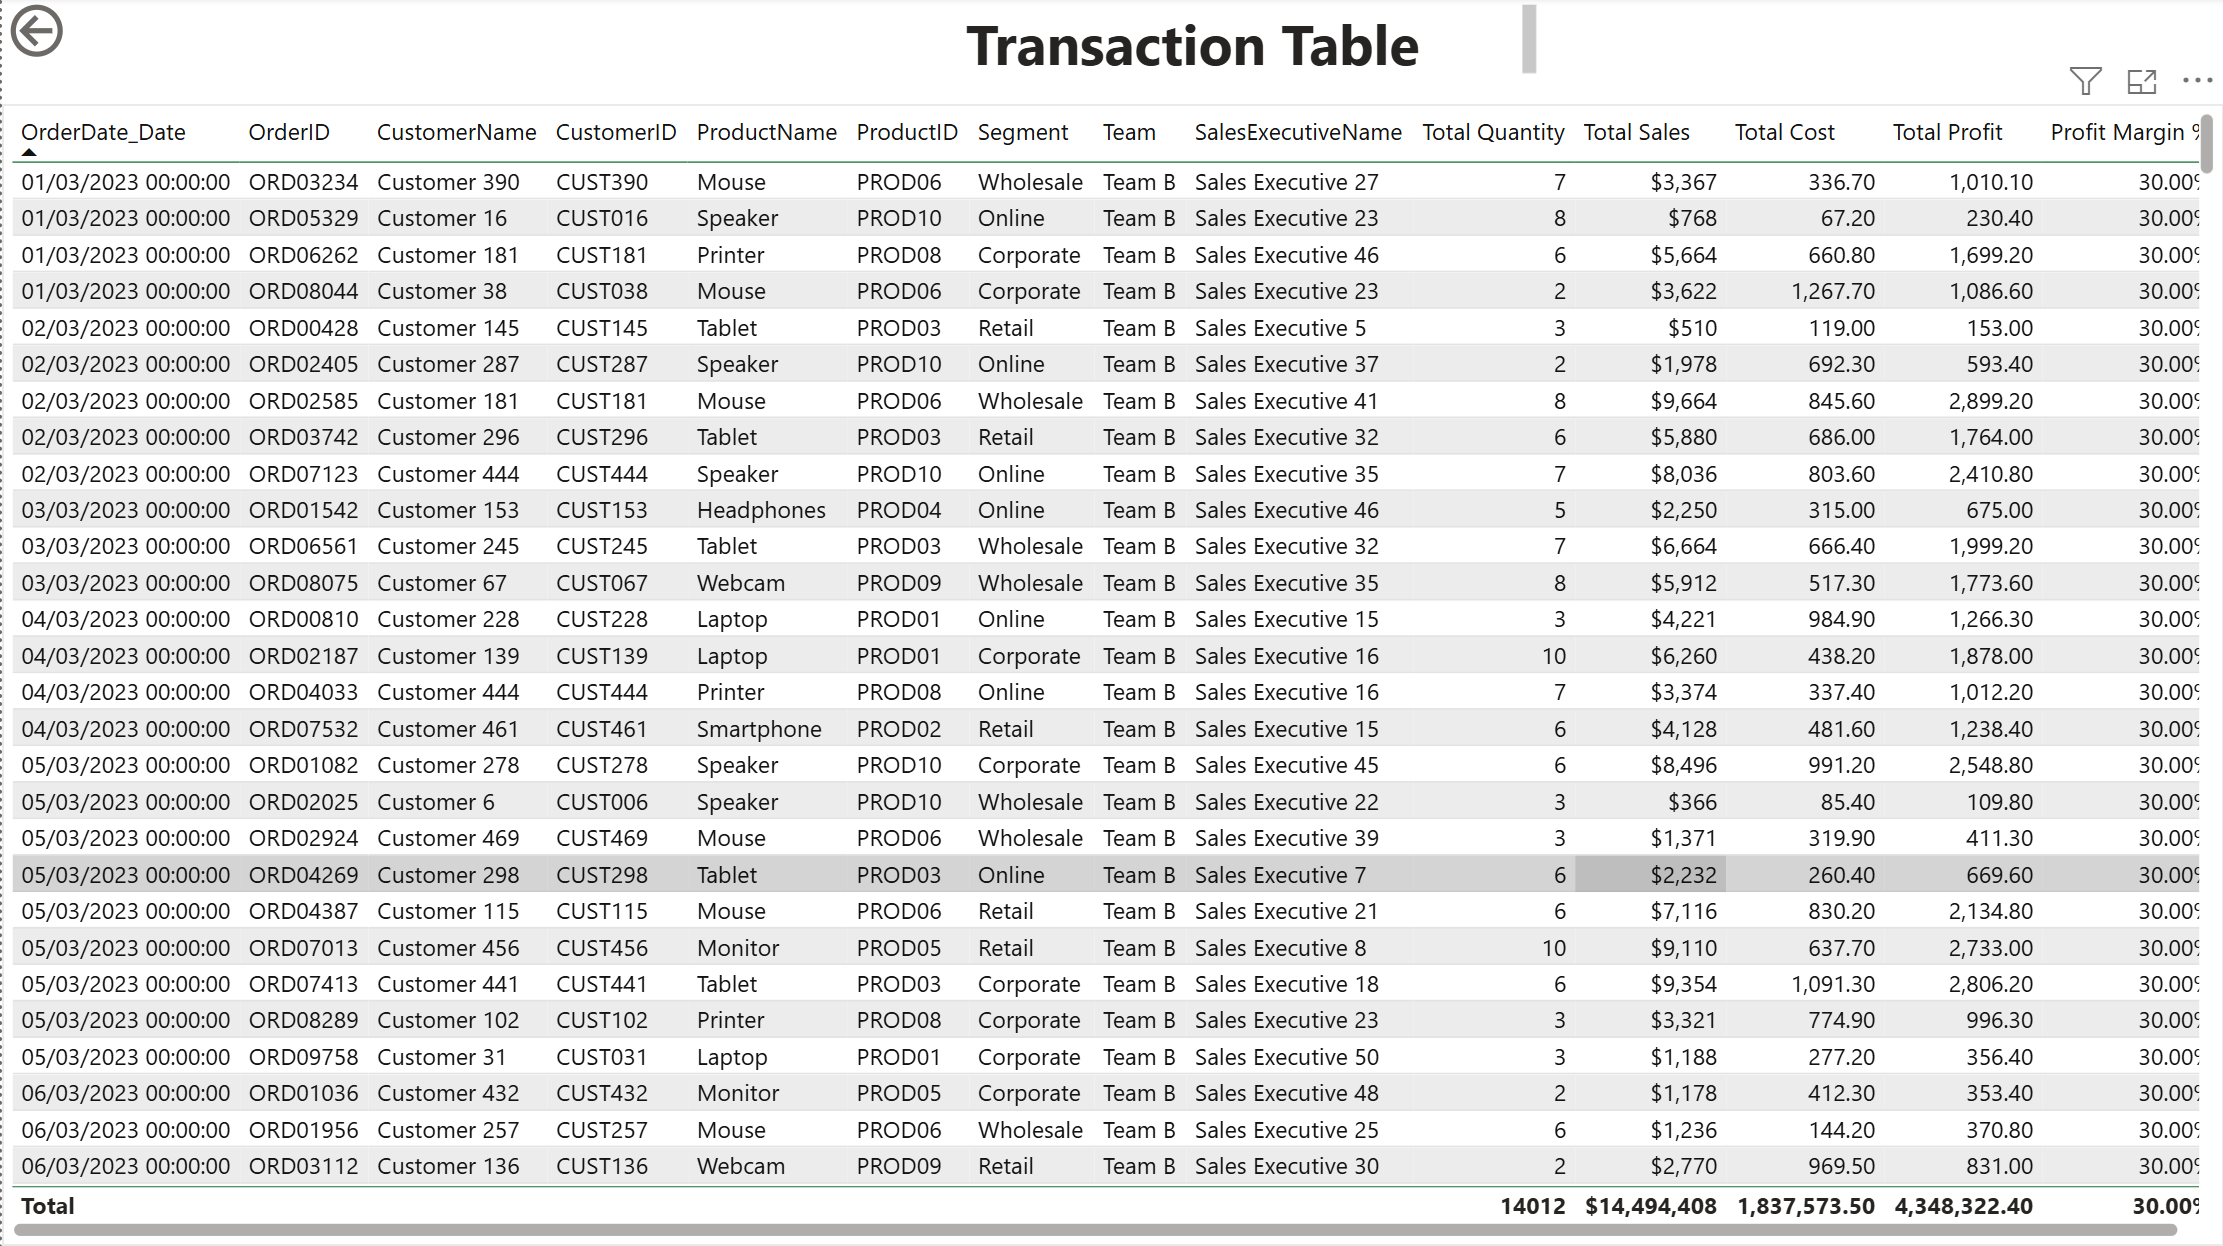

The page's visual inventory and layout, read from the dashboard file:
{"tool":"powerbi","page":{"name":"Page 5","canvas":[1280,720],"ordinal":4},"visuals":[{"type":"tableEx","fields":{"Values":["FactSalesData.OrderDate_Date","FactSalesData.OrderID","FactSalesData.CustomerName","FactSalesData.CustomerID","Products.ProductName","Products.ProductID","FactSalesData.Segment","FactSalesData.Team","SalesExecutives.SalesExecutiveName","Sum(FactSalesData.Quantity)","All_measures.Total Sales","Sum(FactSalesData.CostPrice)"]},"box":[0,62.2,1279.7,658.1],"z":0},{"type":"textbox","box":[490.8,0,397.8,51],"z":1000},{"type":"actionButton","box":[0,0,100,40],"z":2000}]}

Visuals, with their boxes in screenshot pixels (x1, y1, x2, y2), scaled from the page's 1280x720 canvas onto the 2223x1246 screenshot:
tableEx - FactSalesData.OrderDate_Date x FactSalesData.OrderID: box=[0, 108, 2222, 1245]
textbox: box=[852, 0, 1543, 88]
actionButton: box=[0, 0, 174, 69]
